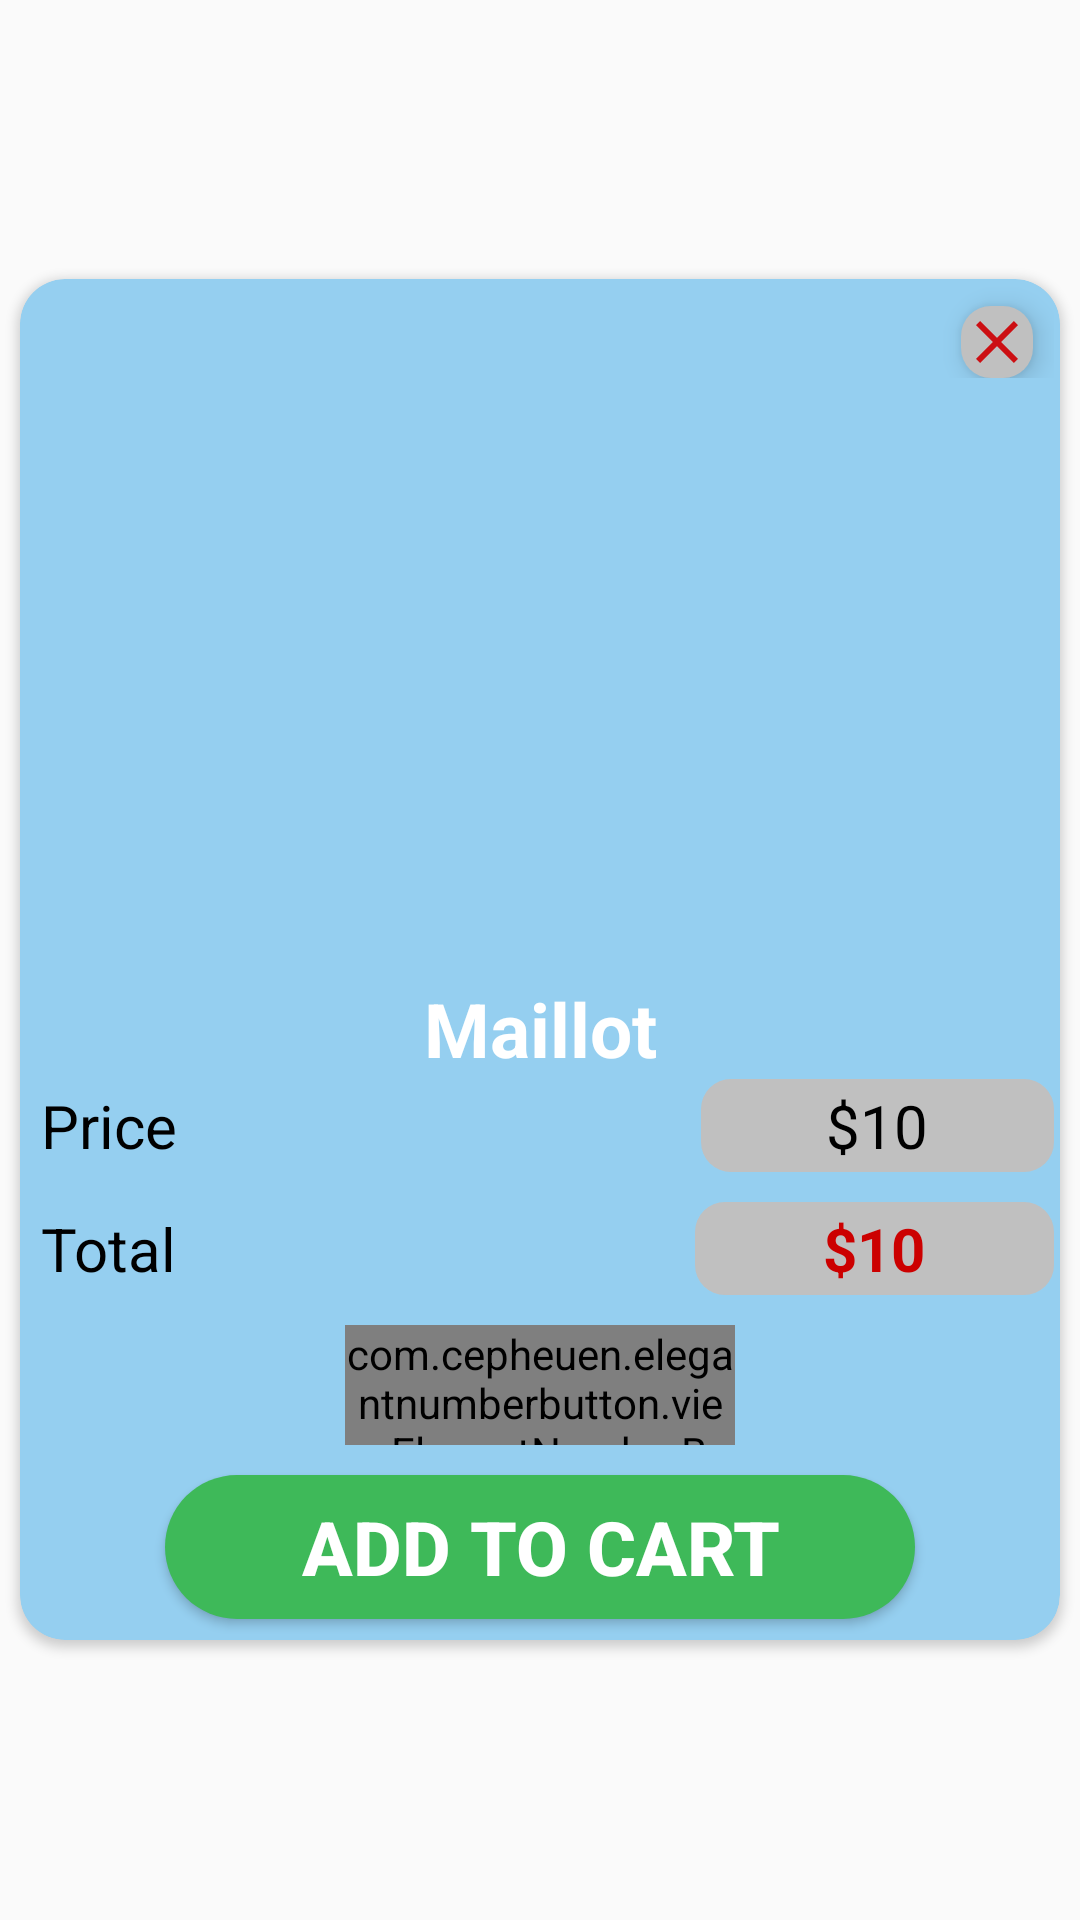

Icons on this 1080×1920 Android screen, each with the point to tap as (x,y):
close: (997,342)
